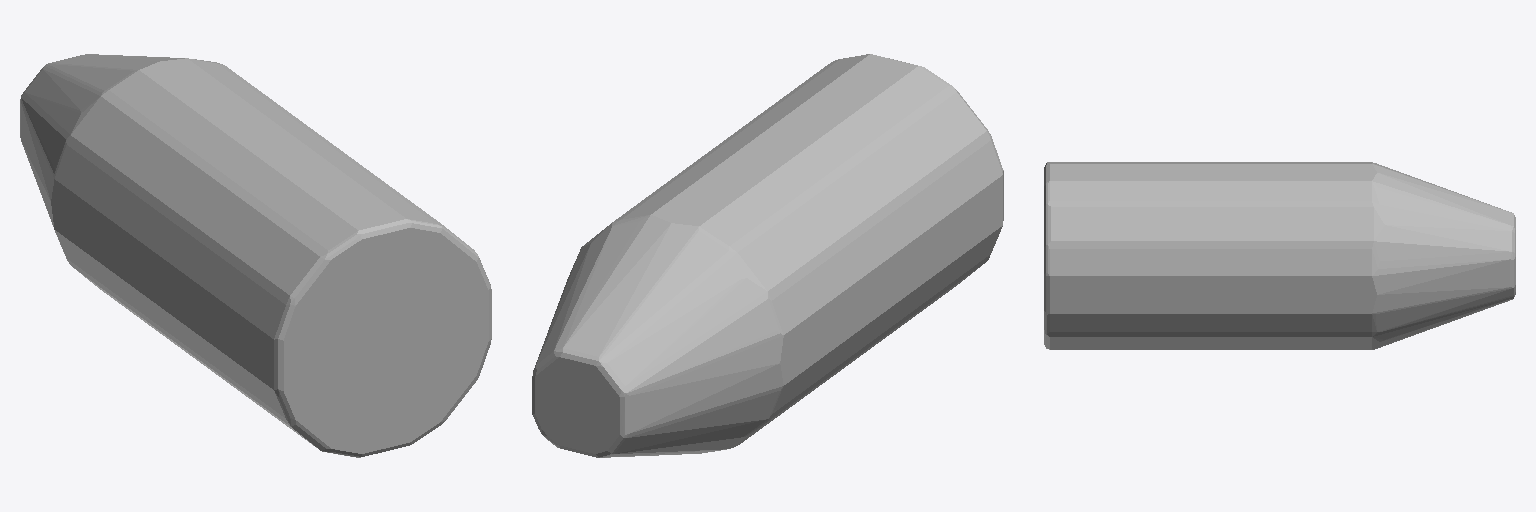
URDF robot description (root):
<?xml version="1.0"?>
<robot name="root">
  <link name="base_link">
    <visual>
      <origin xyz="0 0 0" rpy="0 0 0" />
      <geometry>
        <mesh filename="../meshes/unidex_core_bottle-4185c4eb651bd7e03c752b66cc923fdb_008.obj" scale="1.0000E+00 1.0000E+00 1.0000E+00" />
      </geometry>
      <material name="">
        <color rgba="7.50E-01 7.50E-01 7.50E-01 1" />
      </material>
    </visual>
    <collision>
      <origin xyz="0 0 0" rpy="0 0 0" />
      <geometry>
        <mesh filename="../meshes/unidex_core_bottle-4185c4eb651bd7e03c752b66cc923fdb_008.obj" scale="1.0000E+00 1.0000E+00 1.0000E+00" />
      </geometry>
    </collision>
  </link>
</robot>

--- What the picture shows (computed from the rendered views, not written in the file) ---
The picture shows the robot from 3 angles, left to right: view 1: azimuth 30°, elevation 25°; view 2: azimuth 150°, elevation 25°; view 3: azimuth 270°, elevation 25°; orthographic projection.
Robot: root — 1 links, 0 joints (none); root link base_link; default pose: all joints at 0.
Visible links, largest first — view 1: base_link; view 2: base_link; view 3: base_link.
Link boxes in pixels (x1=…): base_link: x1=20, y1=54, x2=491, y2=457; base_link: x1=532, y1=54, x2=1003, y2=457; base_link: x1=1044, y1=162, x2=1515, y2=349.
Bounding box of the posed robot: 0.0573 × 0.1464 × 0.0573 m (x, y, z).
Meshes: 1 distinct files referenced, 1 mesh visuals loaded (1 OBJ).
